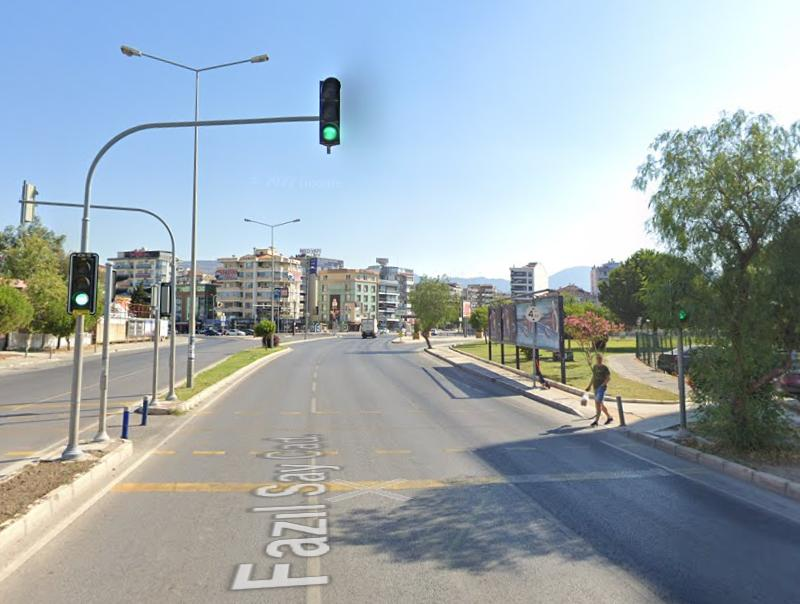greenlight: (68, 252, 93, 314), (320, 79, 342, 148), (672, 275, 688, 323)
